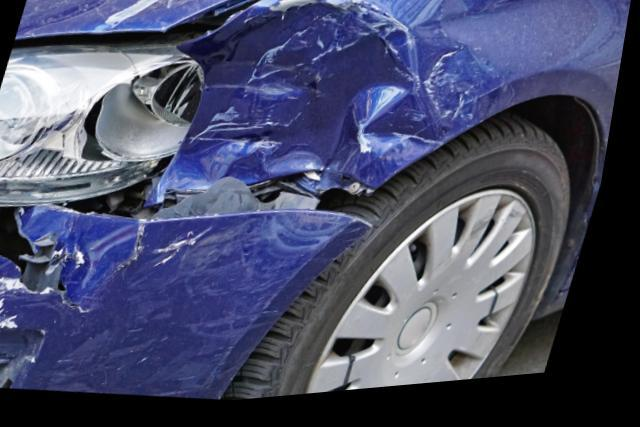crack: (0, 208, 154, 316)
dent: (176, 0, 614, 198)
dislocated part: (62, 180, 378, 238)
lamp broken: (0, 41, 209, 202)
scratch: (0, 272, 35, 331)
